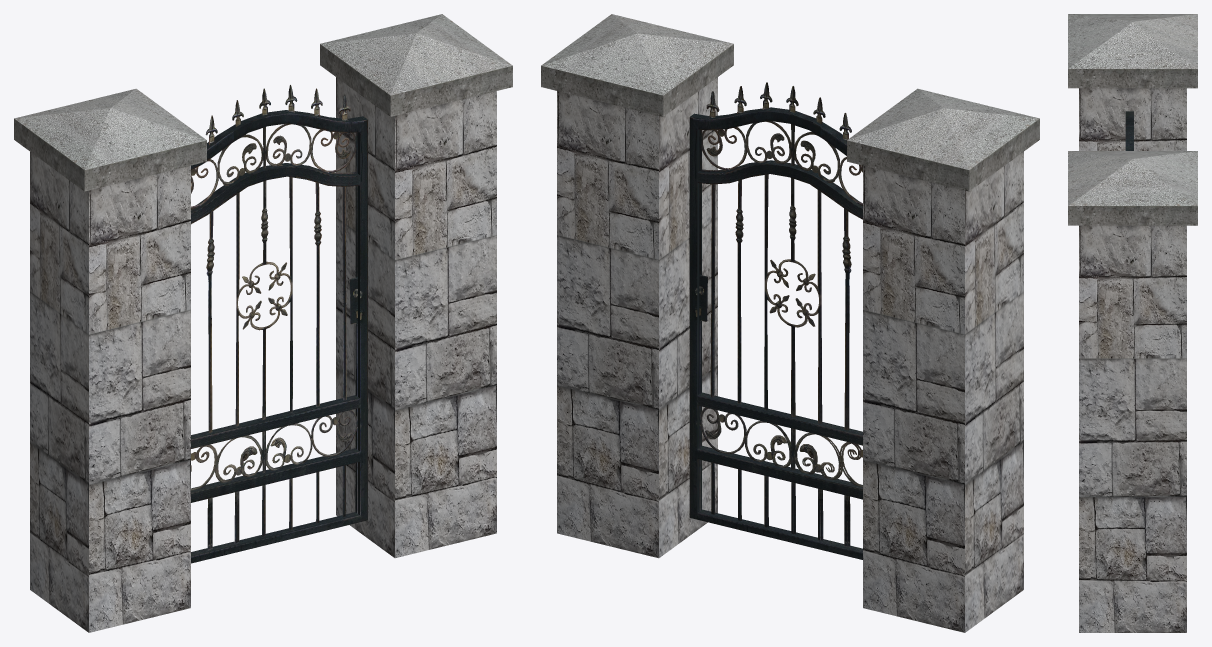
Rendered from Gate1A.fbx.
The picture shows the model from 3 angles, left to right: view 1: azimuth 30°, elevation 25°; view 2: azimuth 150°, elevation 25°; view 3: azimuth 270°, elevation 25°; orthographic projection. The views are drawn at different scales.
Parts seen in each view (by area): view 1: Gate1A, Gate1A-gate; view 2: Gate1A, Gate1A-gate; view 3: Gate1A, Gate1A-gate.
Part boxes in pixels (left/top/right/bottom): Gate1A: left=14, top=14, right=512, bottom=632; Gate1A-gate: left=191, top=85, right=367, bottom=563; Gate1A: left=541, top=14, right=1039, bottom=632; Gate1A-gate: left=689, top=82, right=862, bottom=559; Gate1A: left=1068, top=14, right=1197, bottom=632; Gate1A-gate: left=1125, top=111, right=1133, bottom=150.
Bounding box in the file's own units: 210 × 230 × 60.
